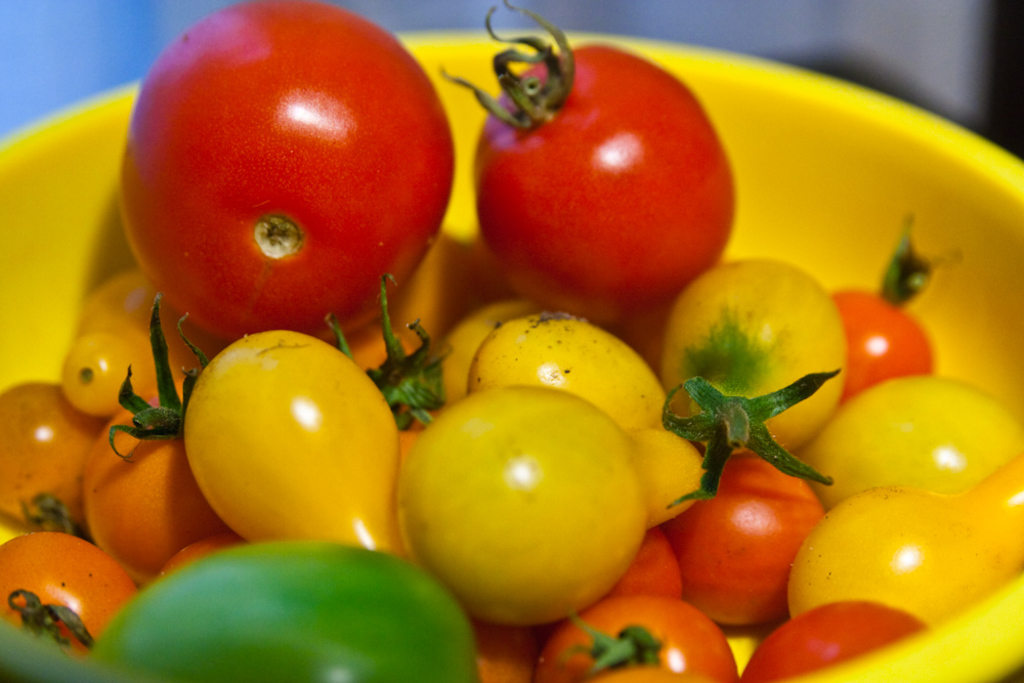Tomato: (0, 269, 1022, 677), (110, 10, 471, 351), (429, 5, 743, 322)
